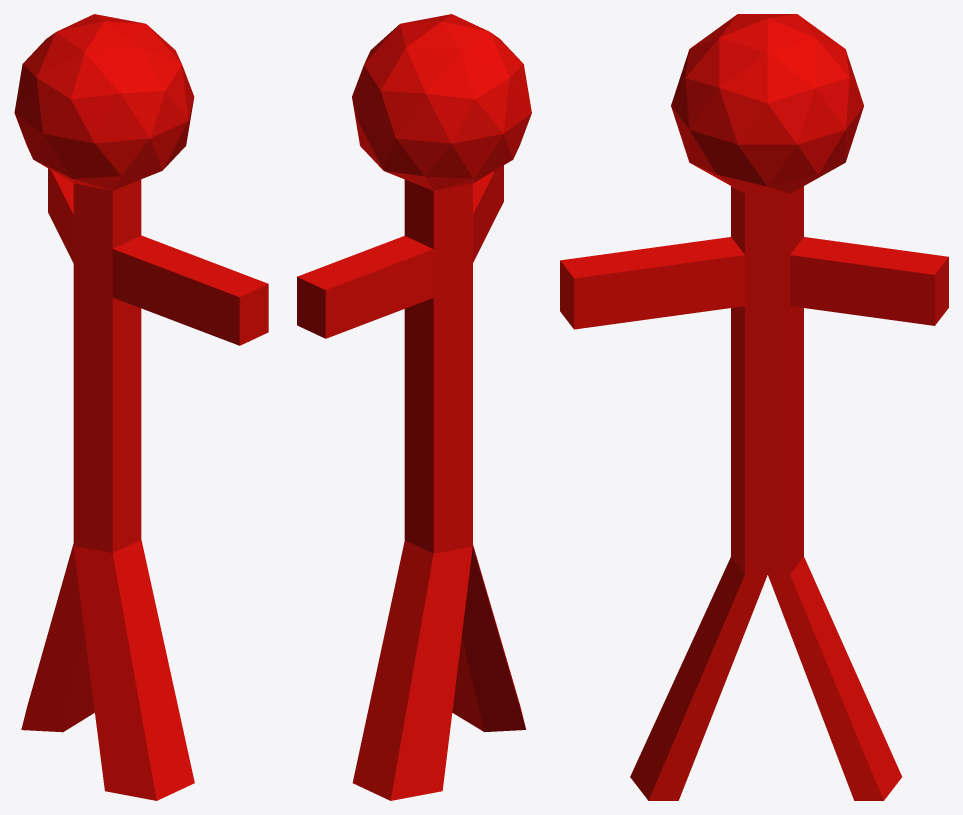
Rendered from panacek0.glb.
The picture shows the model from 3 angles, left to right: view 1: azimuth 30°, elevation 25°; view 2: azimuth 150°, elevation 25°; view 3: azimuth 270°, elevation 25°; orthographic projection. The views are drawn at different scales.
Visible parts, largest first — view 1: Icosphere; view 2: Icosphere; view 3: Icosphere.
Part boxes in pixels (x1,y1,x2,y2): Icosphere: (14, 14, 268, 800); Icosphere: (297, 14, 531, 800); Icosphere: (560, 14, 948, 800).
Bounding box in the file's own units: 1.9 × 8.89 × 4.02.
